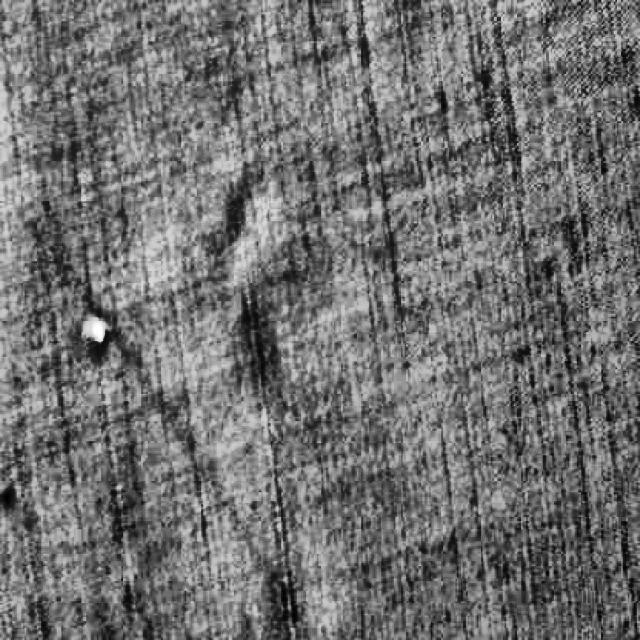hole: (82, 309, 116, 353)
